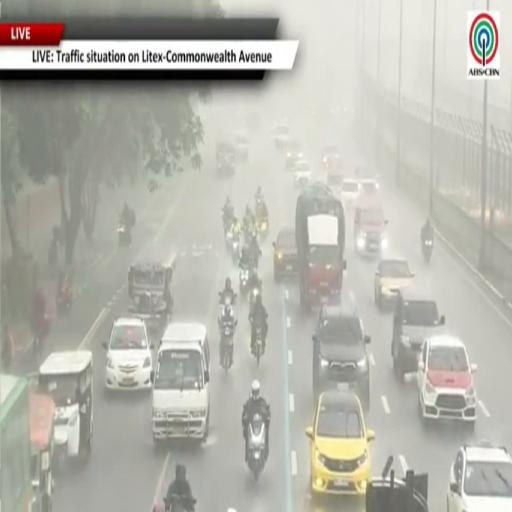bus: (0, 375, 32, 511)
car: (306, 391, 375, 497), (152, 323, 210, 444), (313, 300, 370, 409), (417, 334, 477, 426), (391, 287, 445, 380), (447, 441, 511, 511), (104, 317, 152, 390), (354, 190, 388, 254), (375, 259, 414, 309), (273, 228, 298, 282), (216, 140, 236, 177), (327, 158, 343, 196), (272, 122, 292, 149), (341, 179, 359, 209), (294, 159, 312, 187), (322, 143, 339, 169), (235, 132, 249, 162), (286, 147, 303, 170), (360, 179, 380, 195)
jeepney: (38, 350, 93, 463), (128, 256, 175, 328), (29, 393, 55, 511)
motorcycle: (247, 414, 267, 481), (219, 315, 237, 373), (33, 311, 52, 356), (164, 494, 196, 511), (56, 287, 73, 314), (253, 325, 263, 366), (228, 234, 240, 264), (250, 280, 261, 311), (118, 223, 131, 248), (48, 237, 58, 268), (422, 239, 433, 263), (222, 211, 233, 235), (239, 268, 248, 297), (258, 218, 268, 242), (225, 231, 233, 250)
truck: (295, 182, 345, 308), (364, 457, 428, 511)
